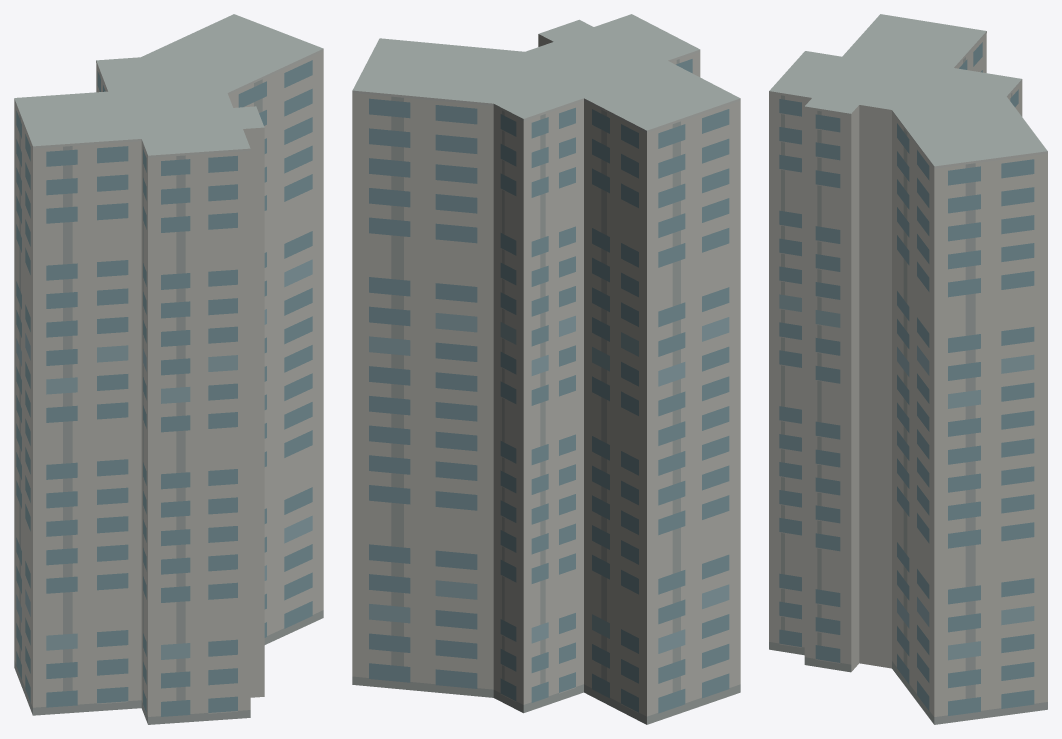
File: residential-abef27f5-35cd-4d1c-aa1f-22971972d00e.glb
3 views of the same model, side by side, from view 1: azimuth 30°, elevation 25°; view 2: azimuth 150°, elevation 25°; view 3: azimuth 270°, elevation 25° (orthographic). The views are drawn at different scales.
Visible parts, largest first — view 1: residential-abef27f5-35cd-4d1c-aa1f-22971972d00e.tmp; view 2: residential-abef27f5-35cd-4d1c-aa1f-22971972d00e.tmp; view 3: residential-abef27f5-35cd-4d1c-aa1f-22971972d00e.tmp.
Part boxes in pixels (x1=…): residential-abef27f5-35cd-4d1c-aa1f-22971972d00e.tmp: x1=14, y1=14, x2=323, y2=724; residential-abef27f5-35cd-4d1c-aa1f-22971972d00e.tmp: x1=352, y1=14, x2=740, y2=724; residential-abef27f5-35cd-4d1c-aa1f-22971972d00e.tmp: x1=769, y1=14, x2=1047, y2=724.
Size of the model in its own units: 34.53 by 59 by 26.69.
